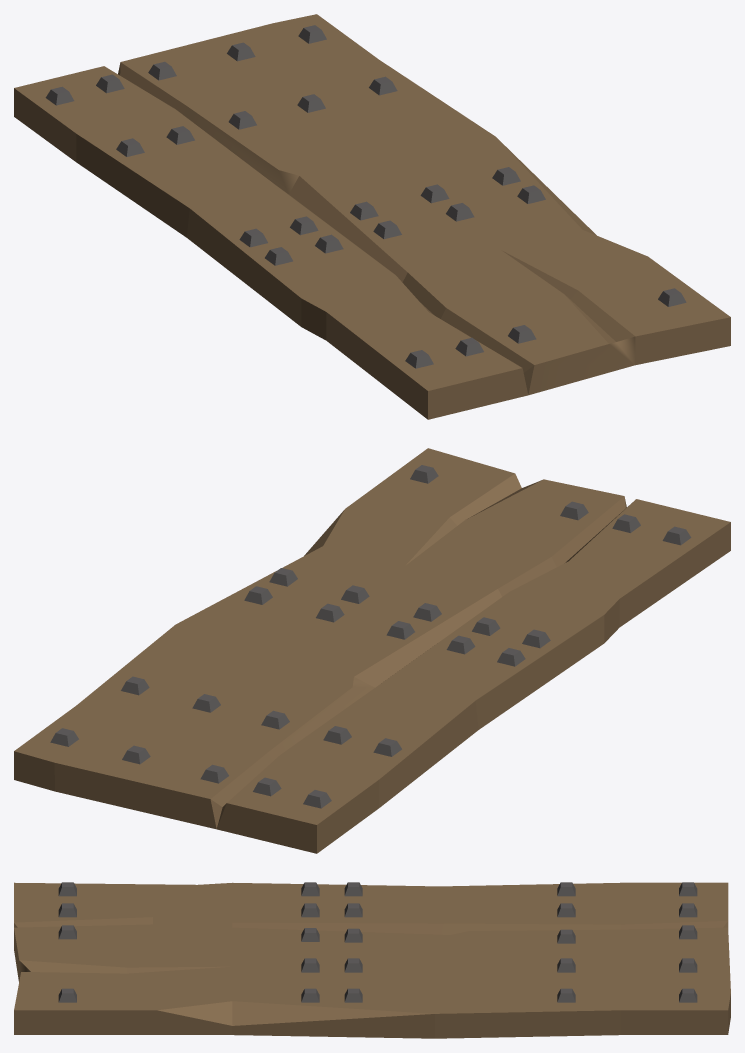
The model's file is SM_Prop_WoodPlank_01.glb.
3 views of the same model, one above another, from view 1: azimuth 30°, elevation 25°; view 2: azimuth 150°, elevation 25°; view 3: azimuth 270°, elevation 25° (orthographic). The views are drawn at different scales.
Parts seen in each view (by area): view 1: SM_Prop_WoodPlank_01; view 2: SM_Prop_WoodPlank_01; view 3: SM_Prop_WoodPlank_01.
Boxes of the visible parts, <box> form: SM_Prop_WoodPlank_01: <box>14,14,730,419</box>; SM_Prop_WoodPlank_01: <box>14,448,730,853</box>; SM_Prop_WoodPlank_01: <box>14,882,730,1038</box>.
Size of the model in its own units: 0.0207 by 0.00239 by 0.0477.
Materials: 1 (1 with a texture image).
